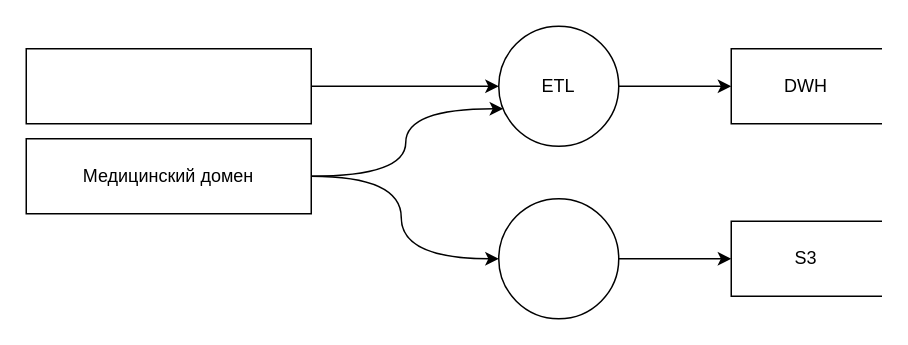
The diagram is 908 pixels wide and 345 high, and some of its shapes have lost their labels. The box of each missing label's shape, as (x1, y1, x2, y2) in pixels:
ELT: (497, 197, 619, 319)
Финансовый домен: (25, 47, 311, 124)
